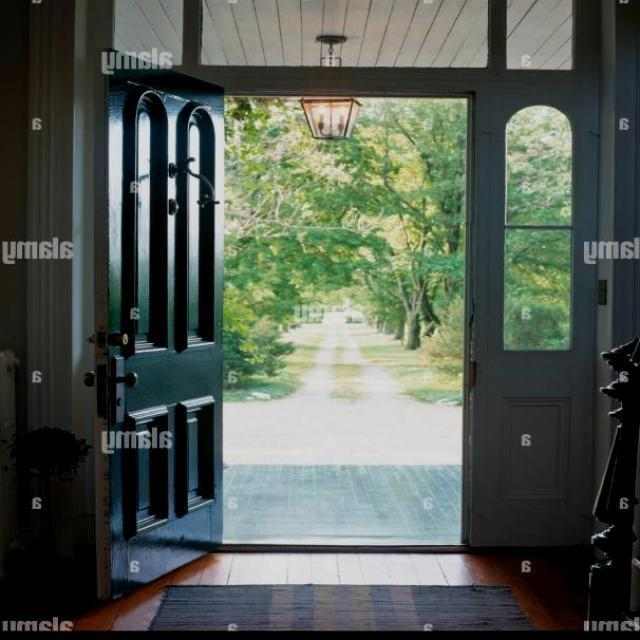door: (103, 74, 225, 598)
